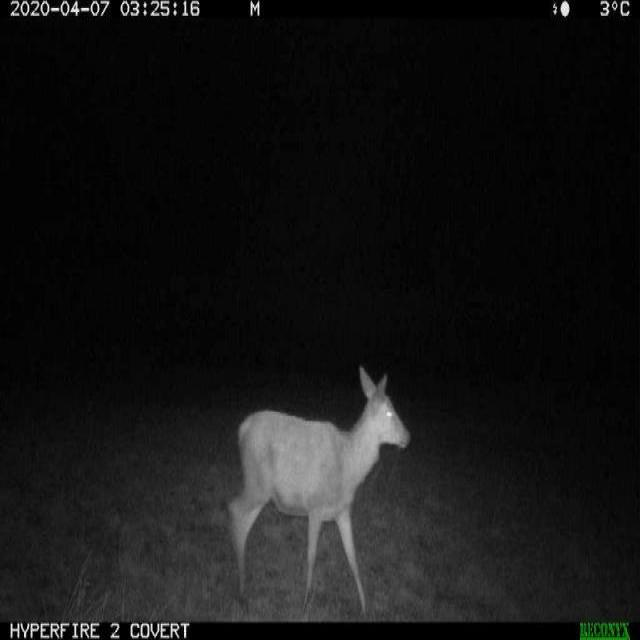deer: (192, 326, 430, 619)
